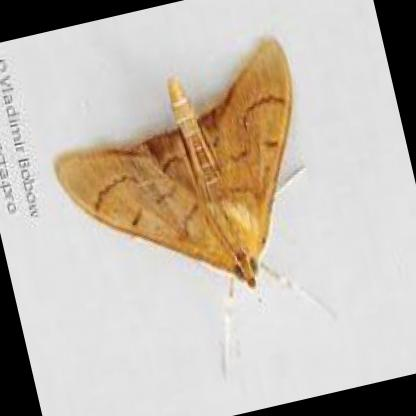Leaf Webber: (49, 27, 297, 293)
